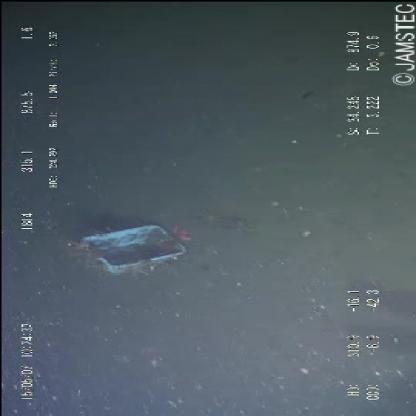Rác: (64, 214, 196, 284)
